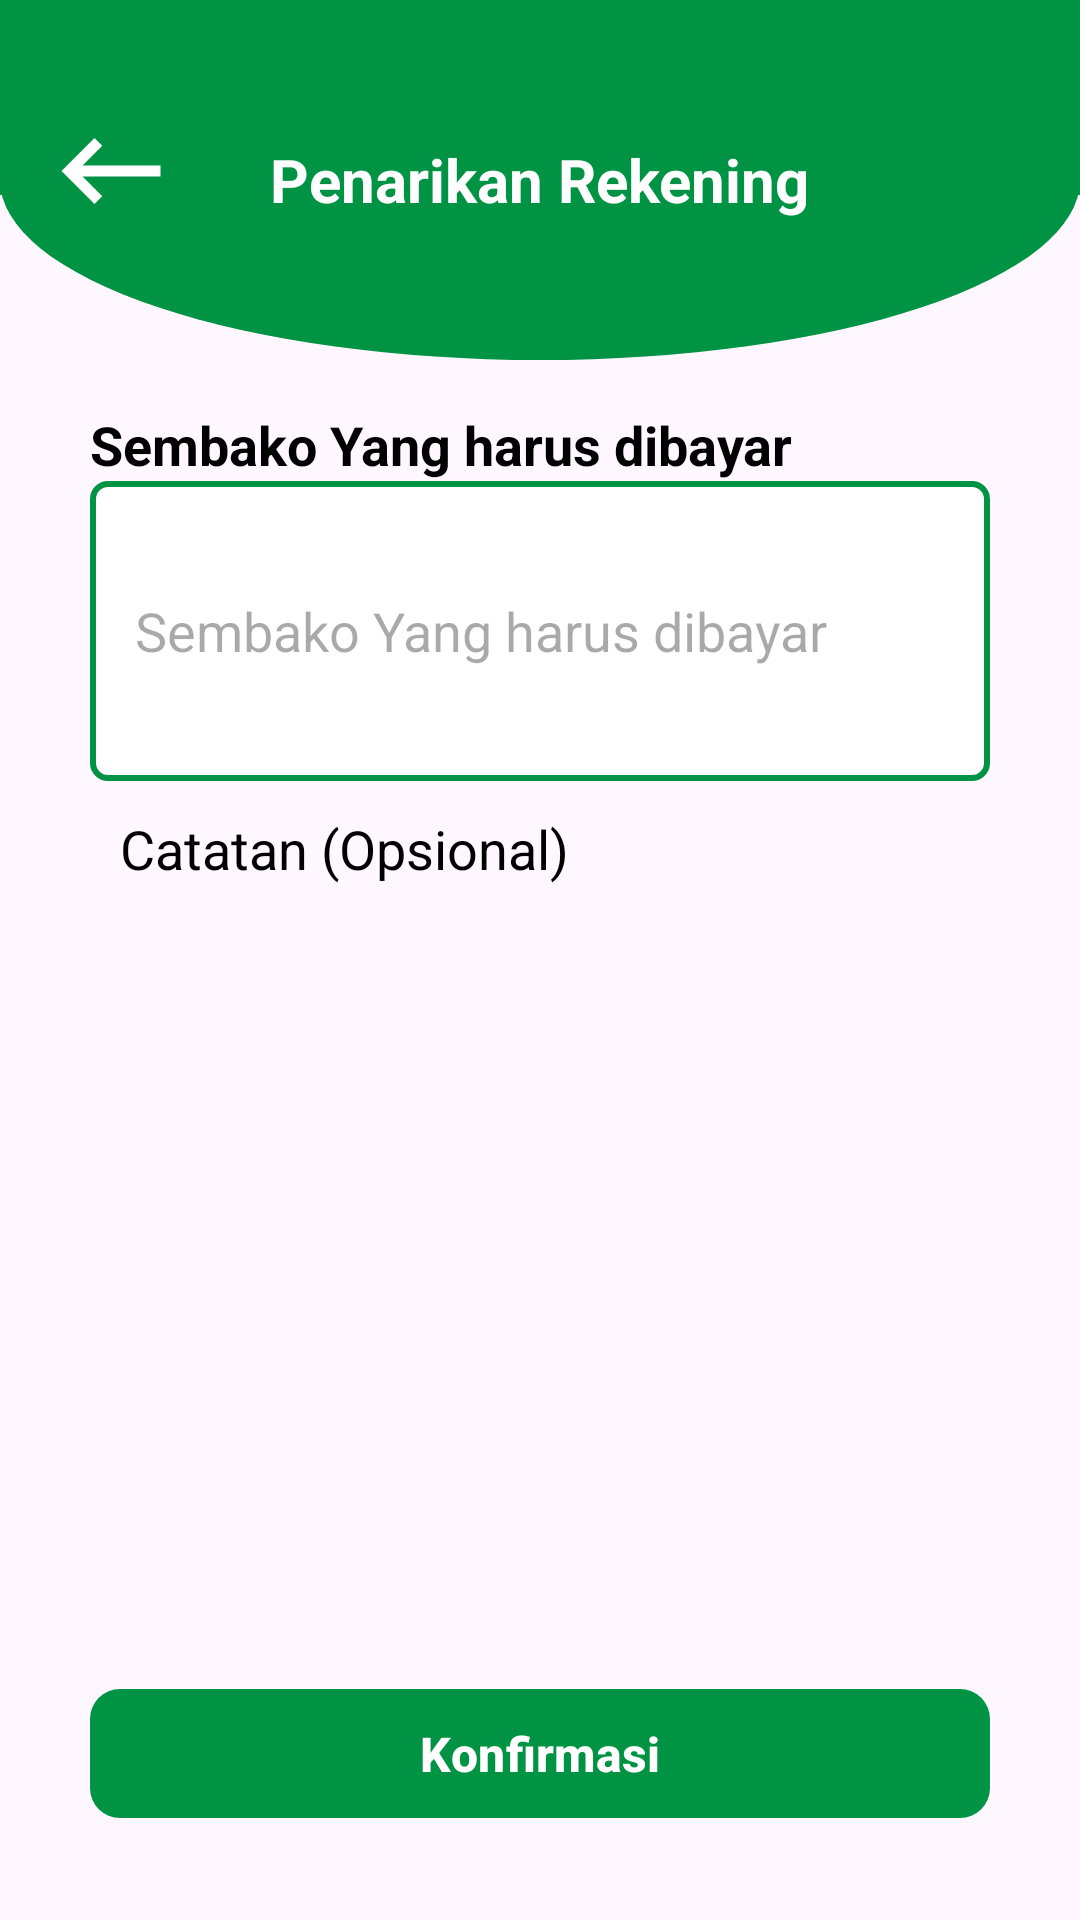

Screen size 1080px×1920px. Icon name, then its box in pixels as (x1, y1, x2, y2):
keyboard backspace: (61, 138, 161, 204)
